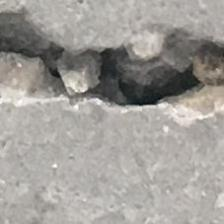Crack: (0, 8, 224, 138)
